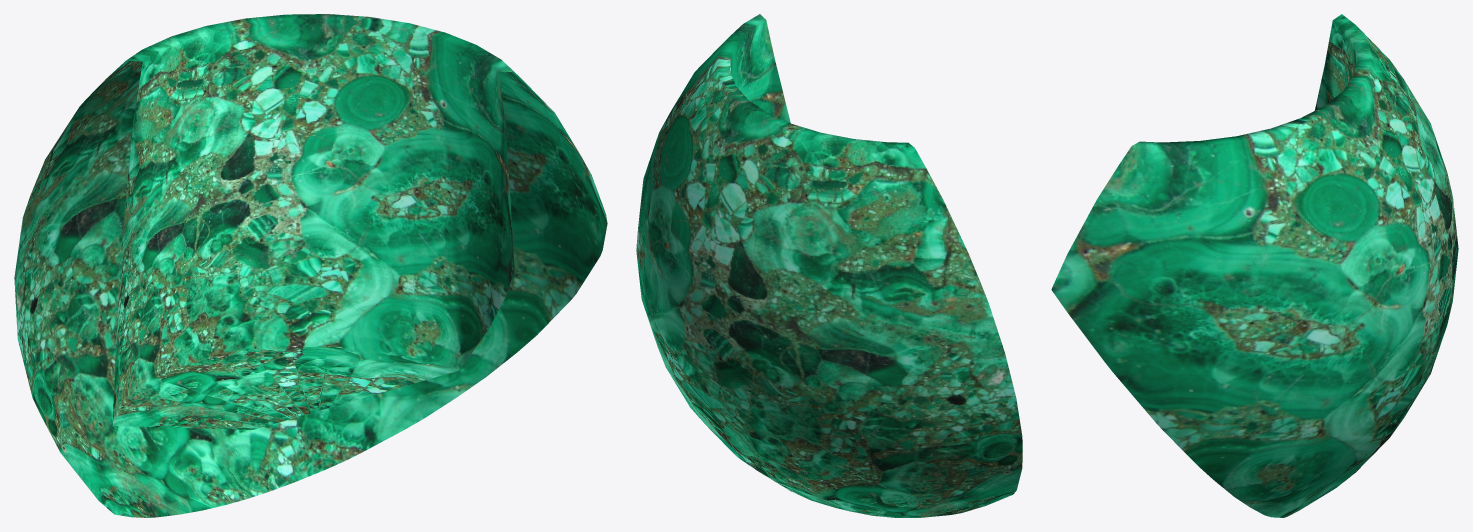
Rendered from bowlpart2.obj.
3 renders of one model, left to right at view 1: azimuth 30°, elevation 25°; view 2: azimuth 150°, elevation 25°; view 3: azimuth 270°, elevation 25°, orthographic. The views are drawn at different scales.
Parts seen in each view (by area): view 1: Sphere.001; view 2: Sphere.001; view 3: Sphere.001.
Boxes of the visible parts, <box> form: Sphere.001: <box>14,14,607,517</box>; Sphere.001: <box>636,14,1022,517</box>; Sphere.001: <box>1051,14,1458,517</box>.
Size of the model in its own units: 8.8 by 7.93 by 6.81.
1 material, 1 textured.
